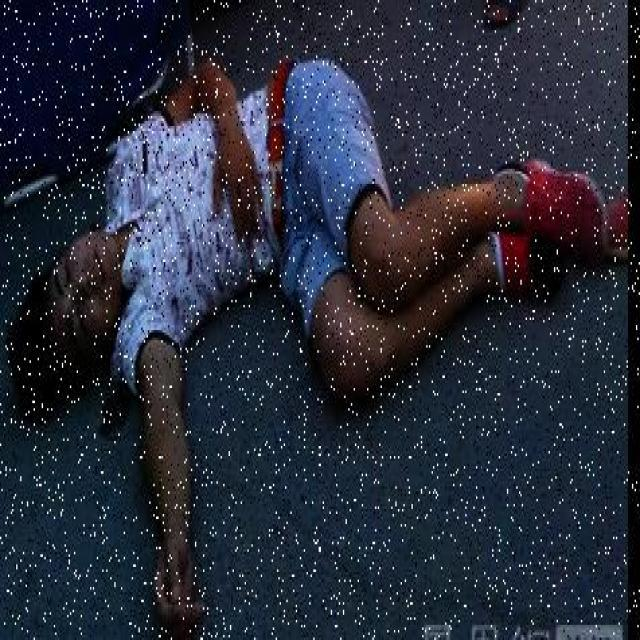fall: (15, 48, 588, 408)
